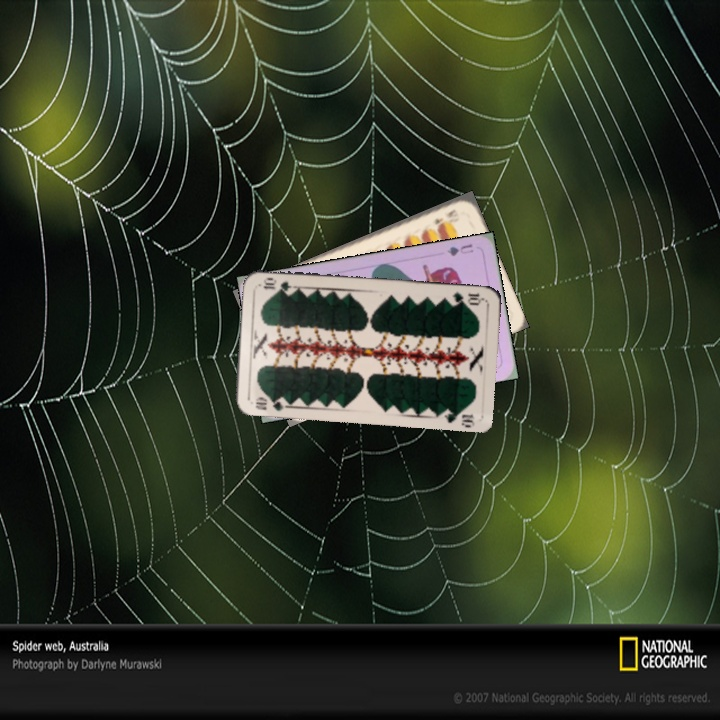E10: (431, 205, 461, 229)
G10: (448, 287, 486, 307), (251, 393, 289, 413)
GU: (443, 240, 476, 259)
